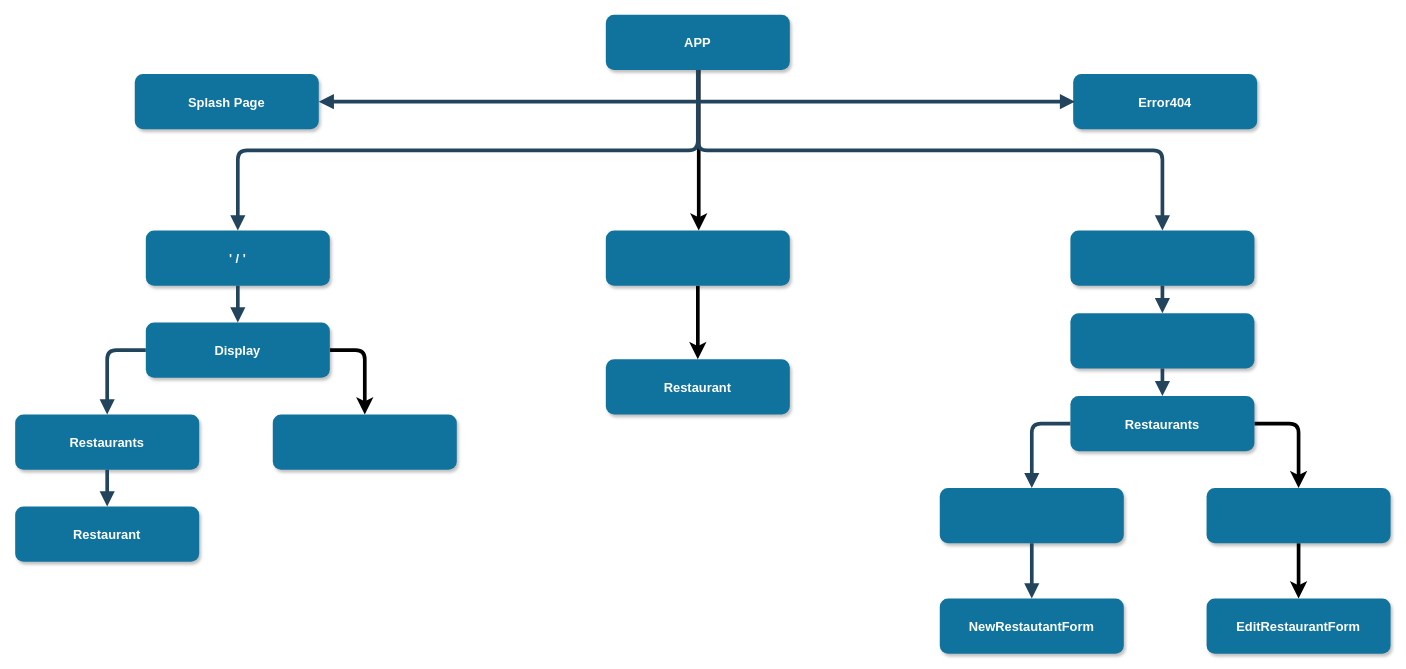
Image size: 1406x669. Some labels were removed from this diagram. The shapes that lost their labels are listed below. From the top down, each one's centre as x and y in pixels, then its label:
At point (698, 259): "/map".
At point (1162, 259): "'/admin'".
At point (1162, 341): "Admin".
At point (365, 443): "Tips".
At point (1032, 516): "NewRestarauntControl".
At point (1299, 516): "EditRestaurantControls".
